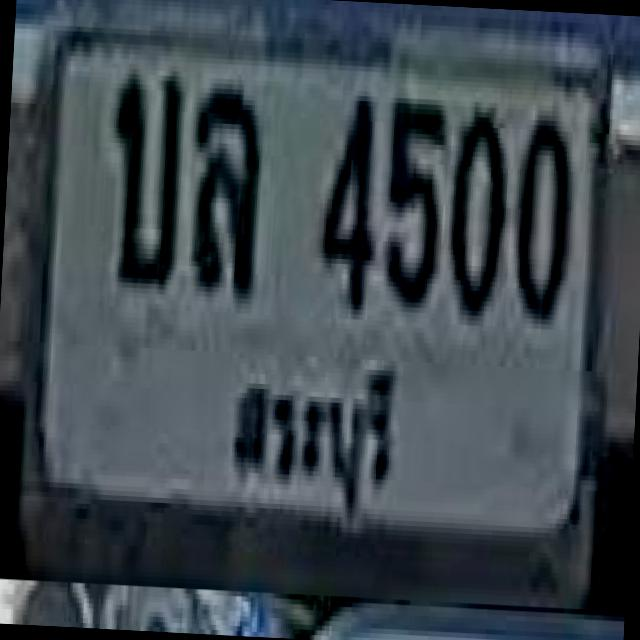license_plate: (5, 0, 633, 613)
